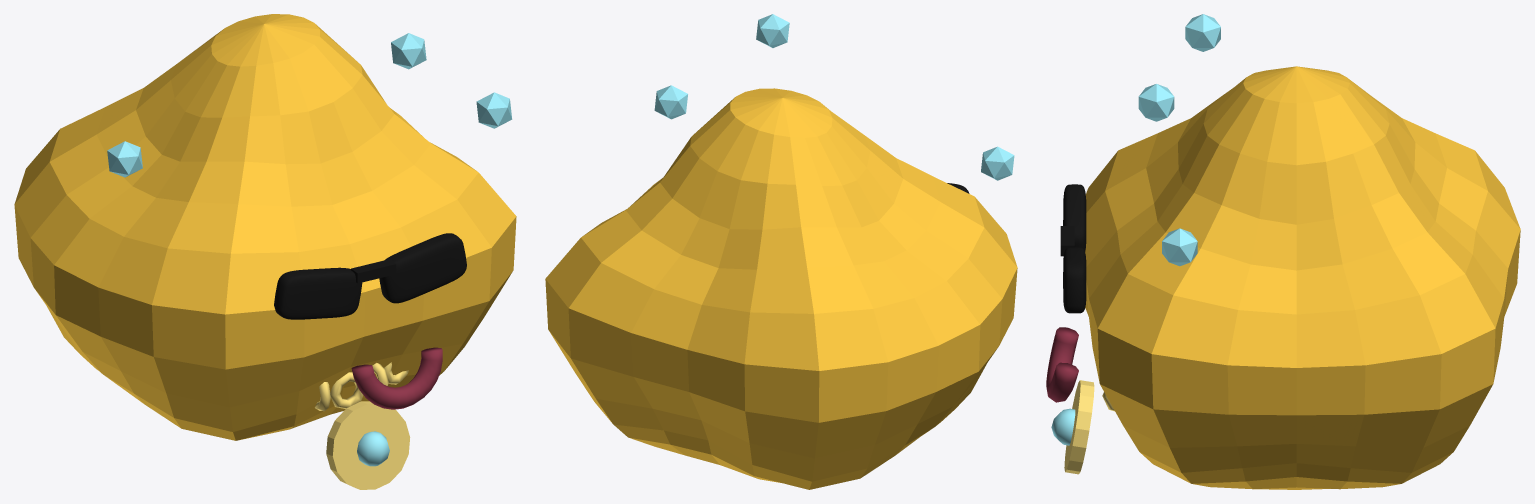
Rendered from G22_GoldenNugget.fbx.
3 renders of one model, left to right at view 1: azimuth 30°, elevation 25°; view 2: azimuth 150°, elevation 25°; view 3: azimuth 270°, elevation 25°, orthographic. The views are drawn at different scales.
Parts seen in each view (by area): view 1: G22_GoldenNugget__Gold, G22_GoldenNugget__Shades, G22_GoldenNugget__Chain, G22_GoldenNugget__Gem, G22_GoldenNugget__Mouth; view 2: G22_GoldenNugget__Gold, G22_GoldenNugget__Gem; view 3: G22_GoldenNugget__Gold, G22_GoldenNugget__Gem, G22_GoldenNugget__Shades, G22_GoldenNugget__Mouth, G22_GoldenNugget__Chain.
Part boxes in pixels (bbox=[...]): G22_GoldenNugget__Gold: bbox=[14, 14, 516, 440]; G22_GoldenNugget__Shades: bbox=[274, 233, 466, 319]; G22_GoldenNugget__Chain: bbox=[315, 362, 410, 489]; G22_GoldenNugget__Gem: bbox=[107, 33, 512, 466]; G22_GoldenNugget__Mouth: bbox=[351, 347, 442, 409]; G22_GoldenNugget__Gold: bbox=[545, 88, 1017, 489]; G22_GoldenNugget__Gem: bbox=[654, 14, 1014, 180]; G22_GoldenNugget__Gold: bbox=[1085, 66, 1520, 489]; G22_GoldenNugget__Gem: bbox=[1051, 14, 1220, 445]; G22_GoldenNugget__Shades: bbox=[1060, 184, 1086, 313]; G22_GoldenNugget__Mouth: bbox=[1046, 327, 1078, 402]; G22_GoldenNugget__Chain: bbox=[1064, 380, 1114, 474].
Size of the model in its own units: 2.09 by 2.01 by 2.03.
